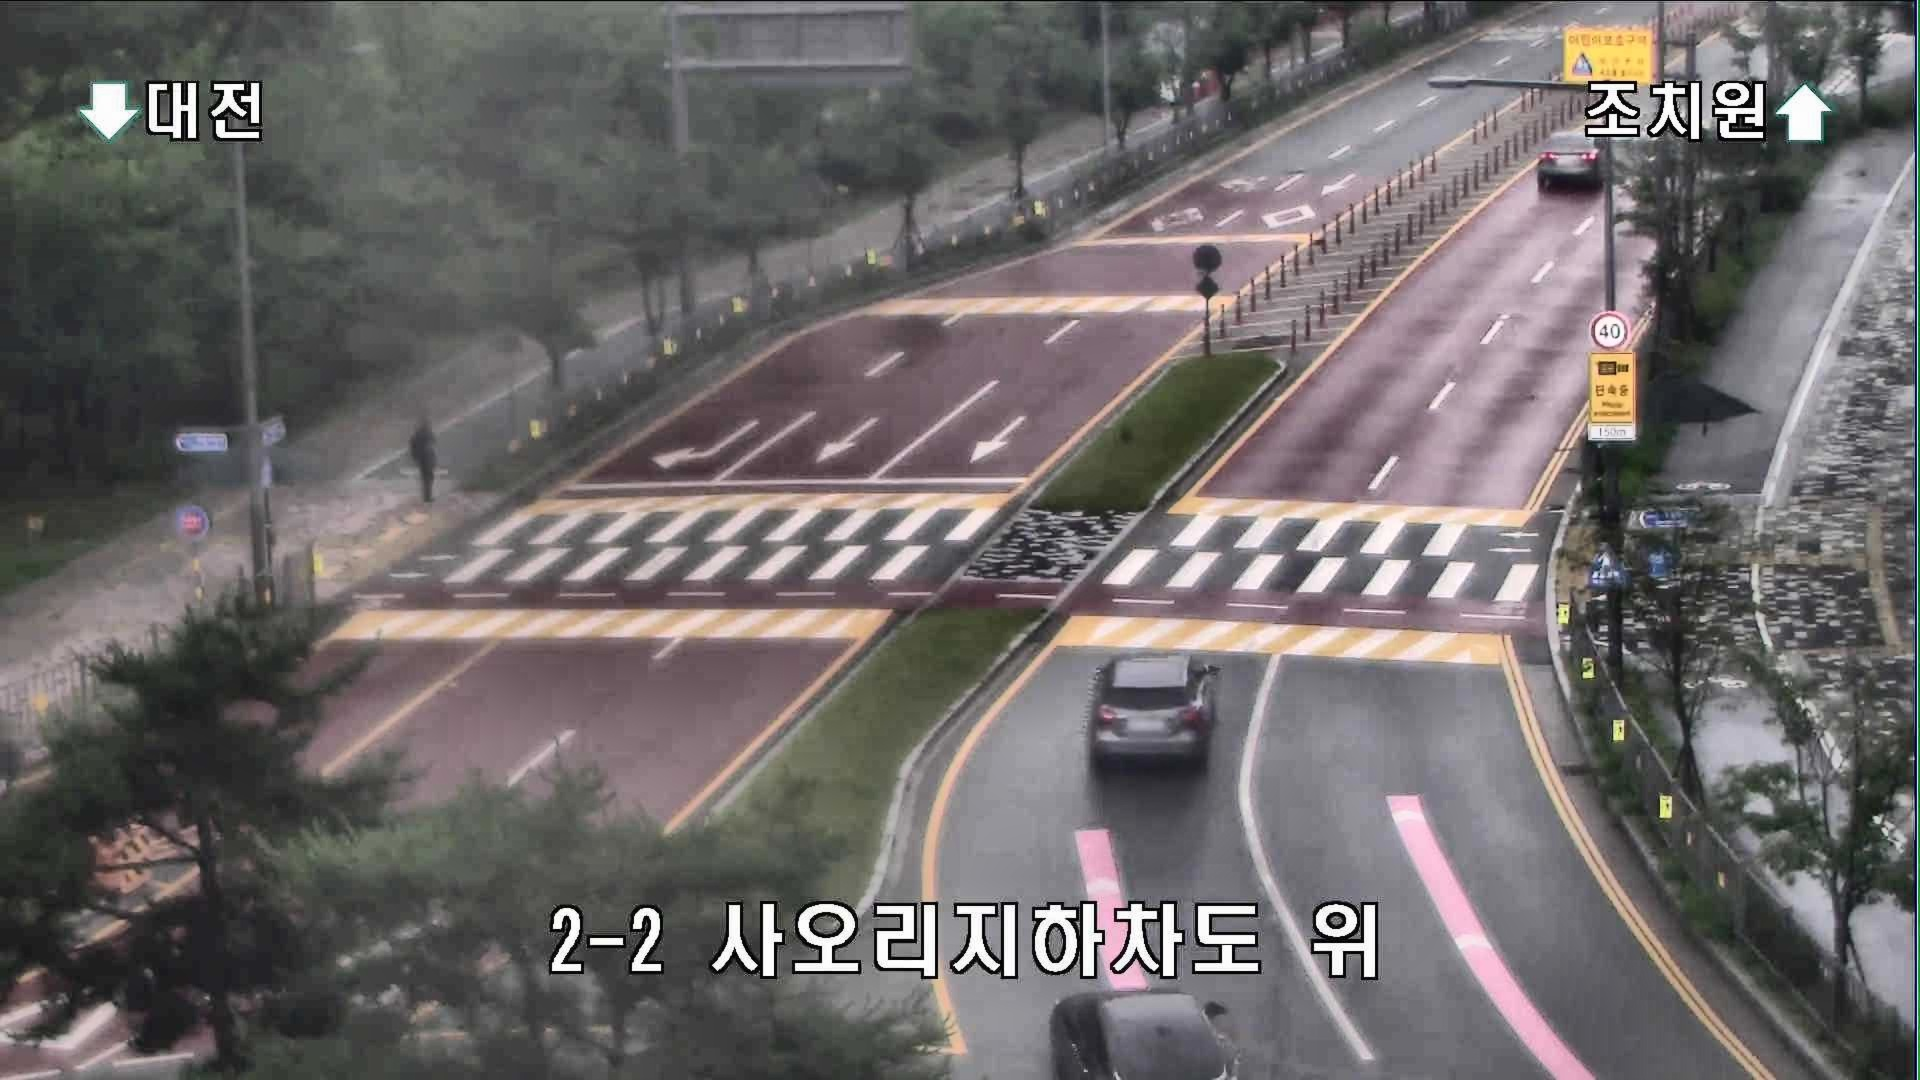sidewalk: (405, 417, 442, 508)
